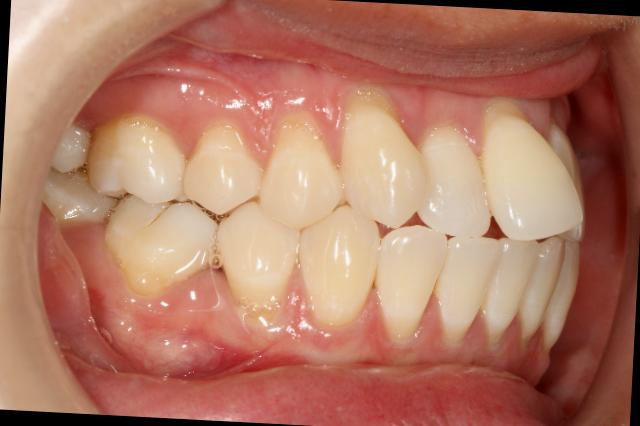canine class II 1/4: (290, 85, 454, 346)
molar class III 1/4: (78, 96, 225, 304)
